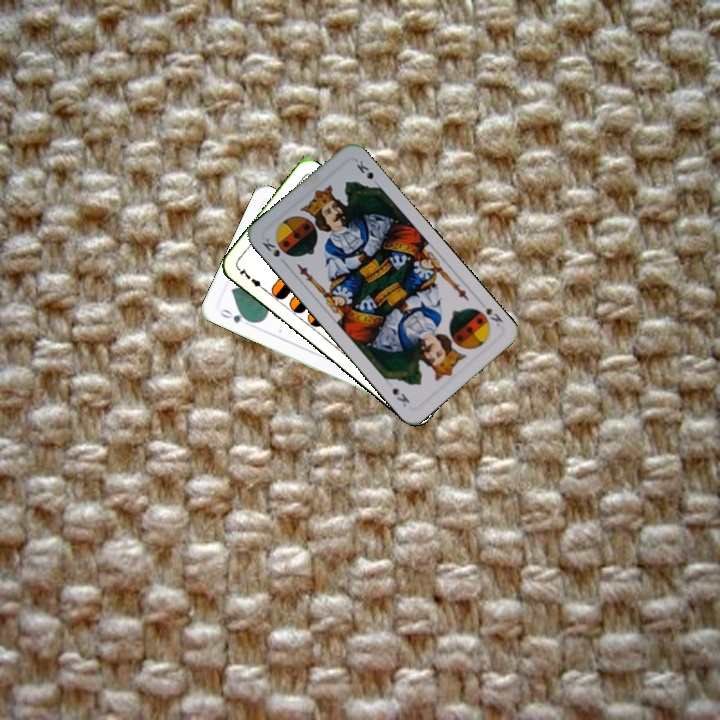E7: (234, 264, 269, 294)
GO: (216, 305, 254, 326)
SK: (258, 234, 290, 268), (481, 304, 506, 329)
